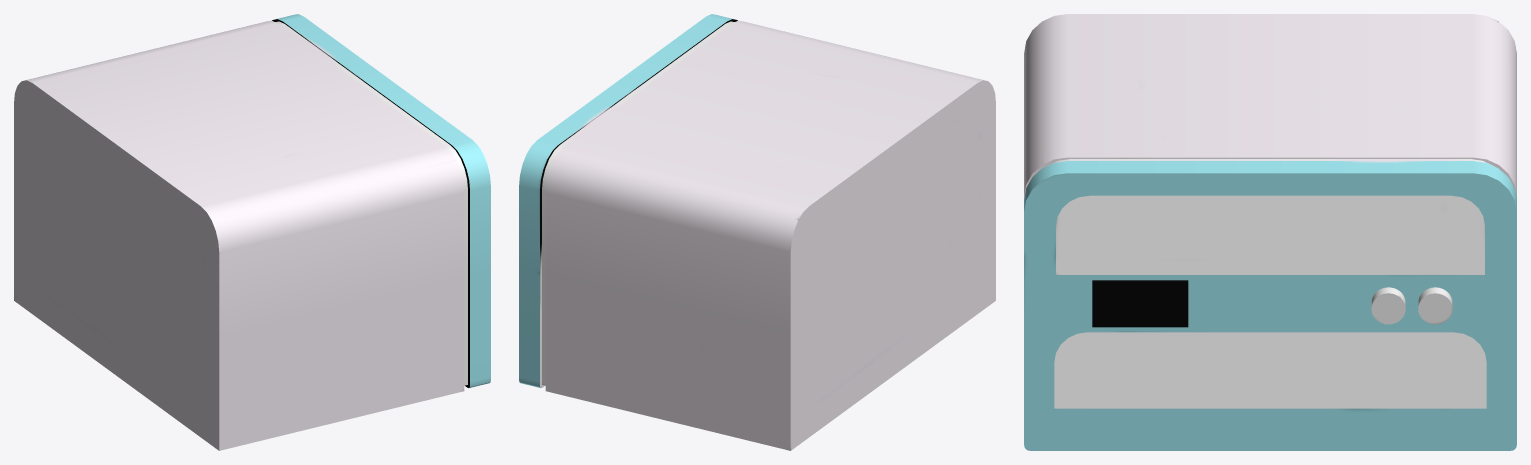
File: oven.fbx
The picture shows the model from 3 angles, left to right: view 1: azimuth 30°, elevation 25°; view 2: azimuth 150°, elevation 25°; view 3: azimuth 270°, elevation 25°; orthographic projection. The views are drawn at different scales.
Parts seen in each view (by area): view 1: Cube; view 2: Cube; view 3: Cube.
Boxes of the visible parts, x1,y1,x2,y2 form: Cube: (14,14,490,450); Cube: (519,14,995,450); Cube: (1024,14,1516,450).
Size of the model in its own units: 255 by 200 by 322.
